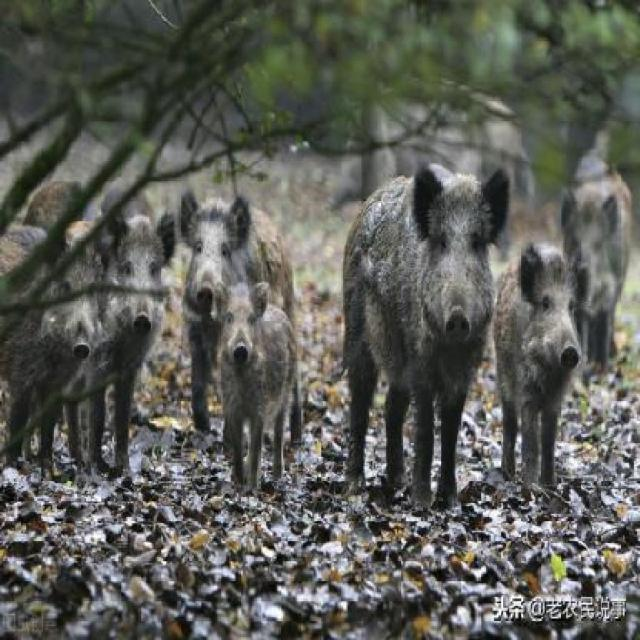wildboar: (332, 159, 516, 524), (55, 194, 183, 488), (0, 195, 108, 488), (175, 188, 299, 442), (484, 238, 593, 497), (549, 166, 640, 392), (210, 271, 304, 486), (17, 156, 89, 270)
